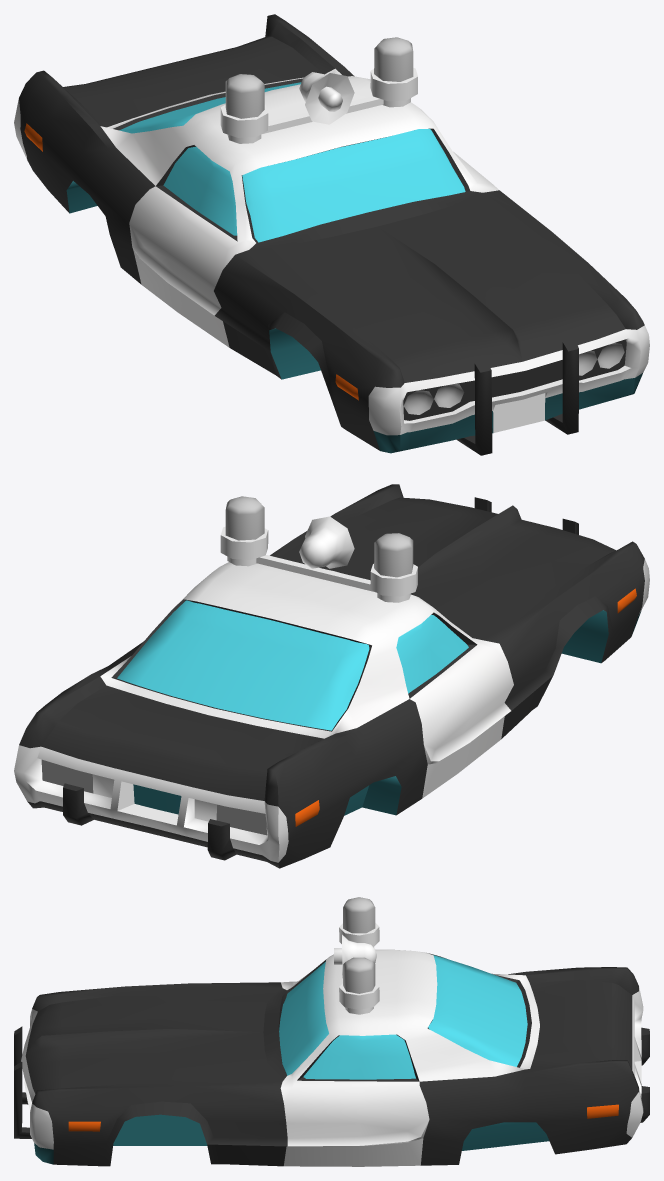
Rendered from CopCar_body.fbx.
3 renders of one model, top to bottom at view 1: azimuth 30°, elevation 25°; view 2: azimuth 150°, elevation 25°; view 3: azimuth 270°, elevation 25°, orthographic. The views are drawn at different scales.
Visible parts, largest first — view 1: copcar_body, copcar_siren, headlights_front; view 2: copcar_body, copcar_siren, brakelights_rear; view 3: copcar_body, copcar_siren.
Boxes of the visible parts, left/top/right/bottom form: copcar_body: left=14, top=14, right=649, bottom=455; copcar_siren: left=225, top=37, right=413, bottom=118; headlights_front: left=404, top=343, right=624, bottom=414; copcar_body: left=14, top=484, right=649, bottom=868; copcar_siren: left=225, top=496, right=413, bottom=577; brakelights_rear: left=41, top=759, right=267, bottom=835; copcar_body: left=14, top=923, right=649, bottom=1166; copcar_siren: left=343, top=897, right=375, bottom=993.
Size of the model in its own units: 254 by 182 by 555.
